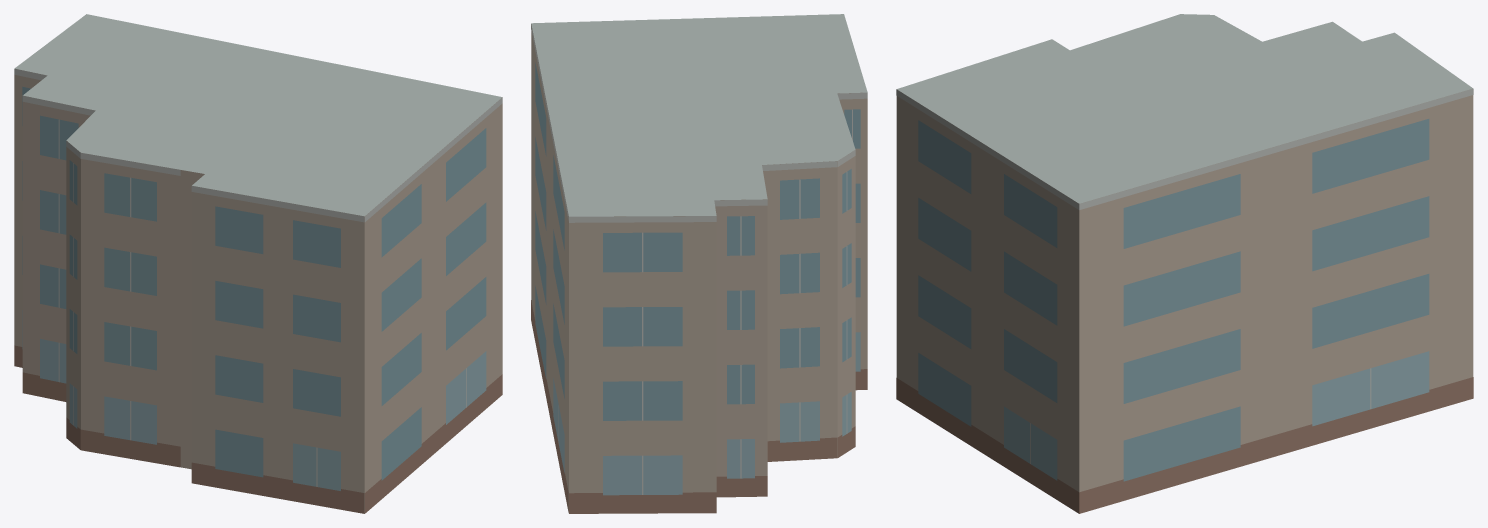
Rendered from survey-upis-32630830.glb.
The picture shows the model from 3 angles, left to right: view 1: azimuth 30°, elevation 25°; view 2: azimuth 150°, elevation 25°; view 3: azimuth 270°, elevation 25°; orthographic projection. The views are drawn at different scales.
Visible parts, largest first — view 1: survey-upis-32630830.tmp; view 2: survey-upis-32630830.tmp; view 3: survey-upis-32630830.tmp.
Part boxes in pixels (left/top/right/bottom): survey-upis-32630830.tmp: left=14, top=14, right=502, bottom=513; survey-upis-32630830.tmp: left=531, top=14, right=867, bottom=513; survey-upis-32630830.tmp: left=896, top=14, right=1473, bottom=513.
Bounding box in the file's own units: 15.5 × 11.8 × 19.91.
